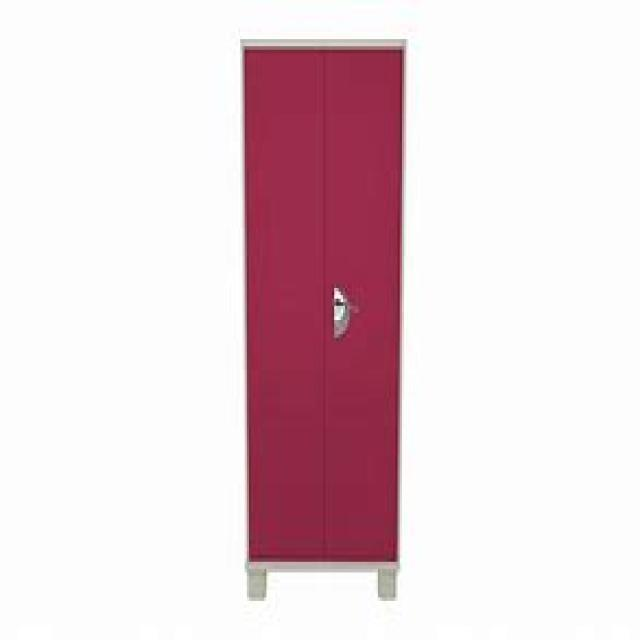dolap: (240, 35, 404, 598)
